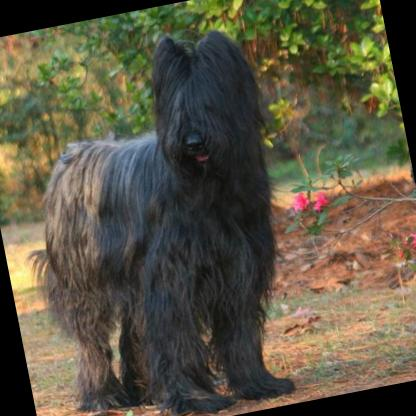briard: (0, 18, 319, 416)
